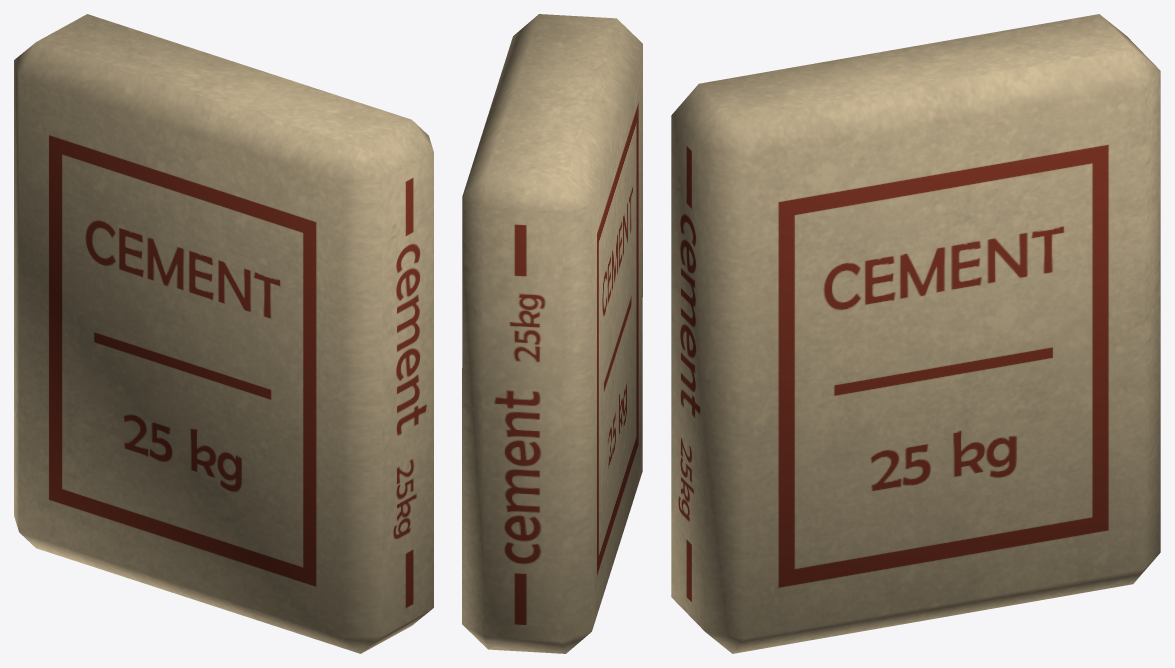
File: TestDynamicObject.fbx
3 renders of one model, left to right at view 1: azimuth 30°, elevation 25°; view 2: azimuth 150°, elevation 25°; view 3: azimuth 270°, elevation 25°, orthographic. The views are drawn at different scales.
Visible parts, largest first — view 1: Cement 25kg.004; view 2: Cement 25kg.004; view 3: Cement 25kg.004.
Part boxes in pixels (bbox=[...]): Cement 25kg.004: bbox=[14, 14, 433, 653]; Cement 25kg.004: bbox=[462, 14, 642, 653]; Cement 25kg.004: bbox=[671, 14, 1160, 653].
Bounding box in the file's own units: 30.63 × 60 × 49.66.
